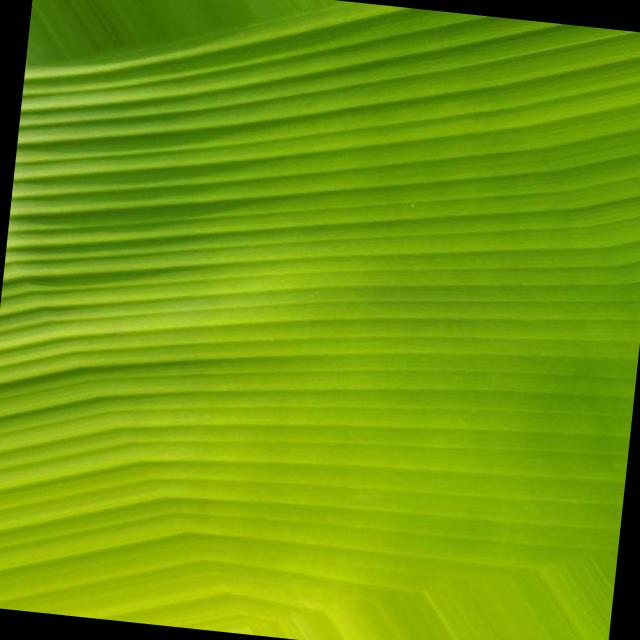Banana_Healthy: (116, 113, 612, 529)
